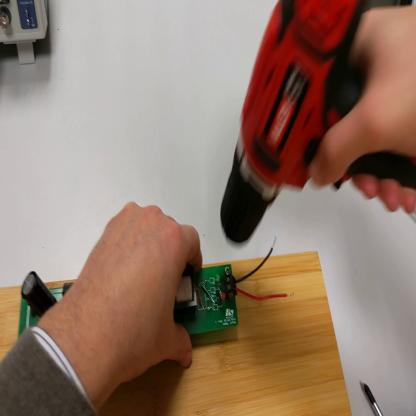electric screwdriver: (219, 2, 416, 254)
hand: (72, 200, 204, 388), (308, 3, 416, 214)
high voltage board: (21, 235, 303, 349)
oscilloscope: (2, 2, 50, 63)
screwdriver-: (361, 382, 385, 416)
working area: (4, 254, 354, 414)
